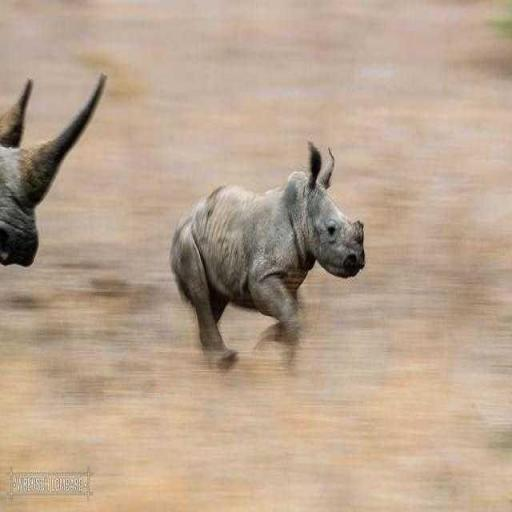Rhino: (168, 137, 366, 373), (0, 69, 107, 268)
